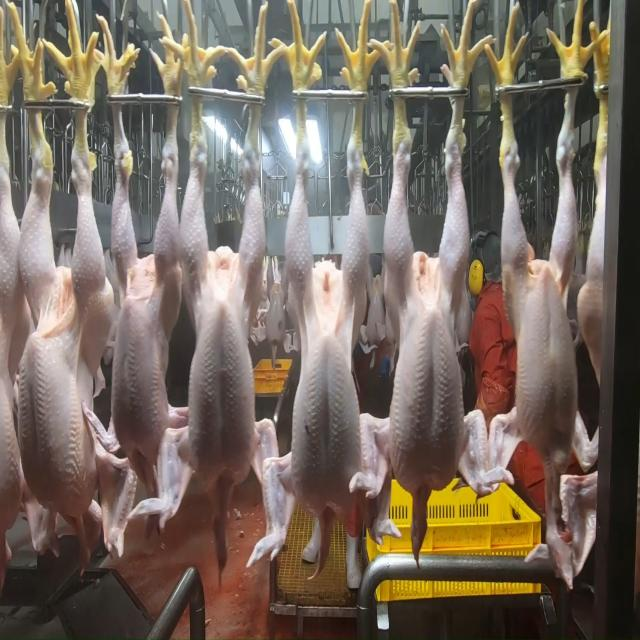chicken: (14, 109, 109, 512), (282, 154, 371, 508), (181, 130, 266, 492), (388, 126, 466, 470), (502, 137, 580, 479), (114, 134, 180, 492)
